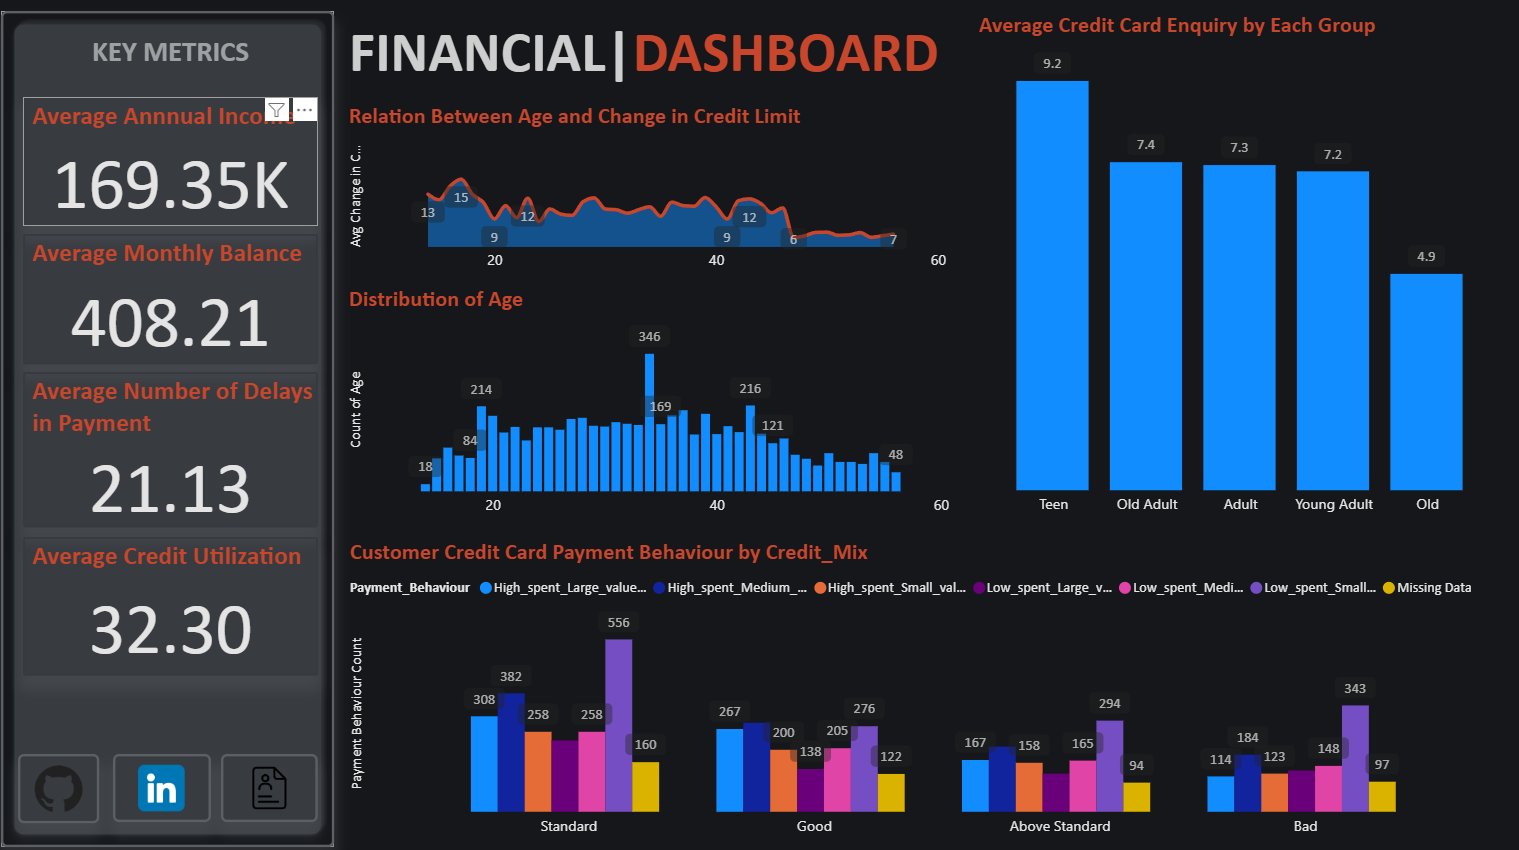

The page's visual inventory and layout, read from the dashboard file:
{"tool":"powerbi","page":{"name":"Page 1","canvas":[1280,720],"ordinal":0},"visuals":[{"type":"shape","box":[5,13.1,279.2,700.5],"z":0,"group":"g1"},{"type":"group","id":"g1","title":"Key Metrics","box":[5,13.1,279.2,700.5],"z":0},{"type":"textbox","box":[291.3,13,512.8,71.8],"z":1000},{"type":"textbox","title":"NAVIGATE","box":[23.2,27.1,246.8,51.7],"z":1000,"group":"g1"},{"type":"lineChart","title":"Relation Between Age and Change in Credit Limit","fields":{"Category":["combined_df.Custom_Age"],"Y":["Avg(combined_df.Changed_Credit_Limit)"]},"box":[291.3,88.7,513,151.2],"z":2000},{"type":"clusteredColumnChart","title":"Distribution of  Age","fields":{"Category":["combined_df.Custom_Age"],"Y":["CountNonNull(combined_df.Custom_Age)"]},"box":[291.3,241.9,513,203.6],"z":3000},{"type":"image","box":[19.5,634.8,68.2,57.6],"z":3000,"group":"g1"},{"type":"image","box":[189.5,635.1,80.6,57.4],"z":3500,"group":"g1"},{"type":"image","box":[98.8,635.1,81.6,57.4],"z":4000,"group":"g1"},{"type":"card","title":"Average Annnual Income","fields":{"Values":["Avg(combined_df.Annual_Income)"]},"box":[23.2,84.7,246.8,108.1],"z":5000,"group":"g1"},{"type":"clusteredColumnChart","title":"Customer Credit Card Payment Behaviour by Credit_Mix","fields":{"Y":["CountNonNull(combined_df.Payment_Behaviour)"],"Category":["combined_df.Credit_Mix"],"Series":["combined_df.Payment_Behaviour"]},"box":[292.3,453.5,974.6,260],"z":5000},{"type":"clusteredColumnChart","title":"Average Credit Card Enquiry by Each Group","fields":{"Category":["combined_df.Age_group"],"Y":["MeasureTable.AverageCreditEnquiry"]},"box":[818.9,12.8,448.3,432.1],"z":5001},{"type":"card","title":"Average Monthly Balance","fields":{"Values":["Avg(combined_df.Monthly_Balance)"]},"box":[23.2,199.9,246.8,109.3],"z":6000,"group":"g1"},{"type":"card","title":"Average Number of Delays in Payment","fields":{"Values":["Avg(combined_df.Delay_from_due_date)"]},"box":[23.2,315.1,246.8,130.5],"z":7000,"group":"g1"},{"type":"card","title":"Average Credit Utilization","fields":{"Values":["Avg(combined_df.Credit_Utilization_Ratio)"]},"box":[23.2,453.8,246.8,116.4],"z":8000,"group":"g1"}]}

Visuals, with their boxes in screenshot pixels (x1, y1, x2, y2), scaled from the page's 1280x720 canvas onto the 1519x850 screenshot:
shape: detection(6, 15, 337, 842)
"Key Metrics" group: detection(6, 15, 337, 842)
textbox: detection(346, 15, 954, 100)
"NAVIGATE" textbox: detection(28, 32, 320, 93)
"Relation Between Age and Change in Credit Limit" lineChart: detection(346, 105, 954, 283)
"Distribution of  Age" clusteredColumnChart: detection(346, 286, 954, 526)
image: detection(23, 749, 104, 817)
image: detection(225, 750, 321, 818)
image: detection(117, 750, 214, 818)
"Average Annnual Income" card: detection(28, 100, 320, 228)
"Customer Credit Card Payment Behaviour by Credit_Mix" clusteredColumnChart: detection(347, 535, 1503, 842)
"Average Credit Card Enquiry by Each Group" clusteredColumnChart: detection(972, 15, 1504, 525)
"Average Monthly Balance" card: detection(28, 236, 320, 365)
"Average Number of Delays in Payment" card: detection(28, 372, 320, 526)
"Average Credit Utilization" card: detection(28, 536, 320, 673)
